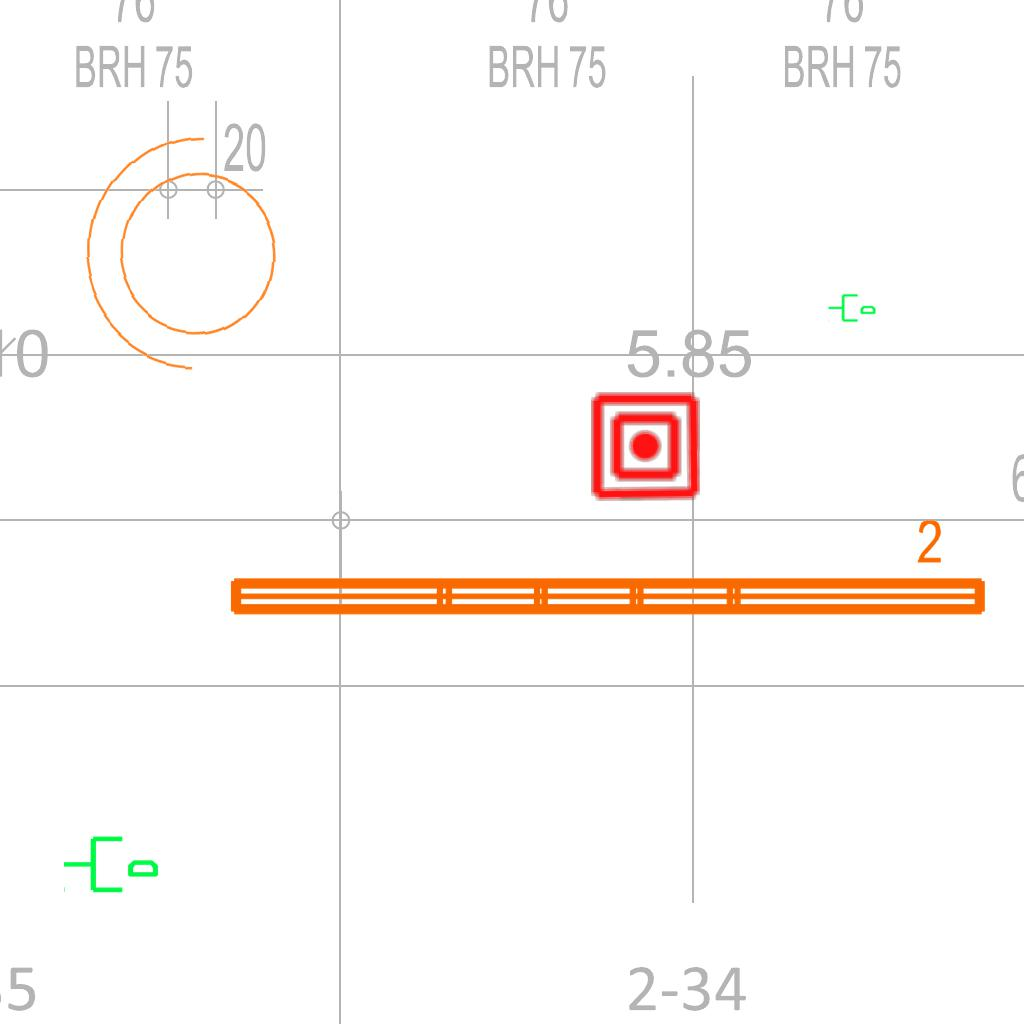Ambulanz_Pendelleuchte_LED: (220, 515, 994, 627)
Datenanschluss_einfach: (61, 828, 161, 897), (827, 290, 877, 324)
NAM-Nichtautomatischer_Melder: (589, 390, 702, 503)
Scheinwerfer_fuer_Alarmbeleuchtung: (68, 121, 308, 398)
